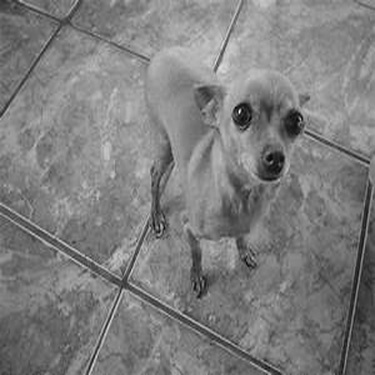dog: (111, 41, 319, 310)
